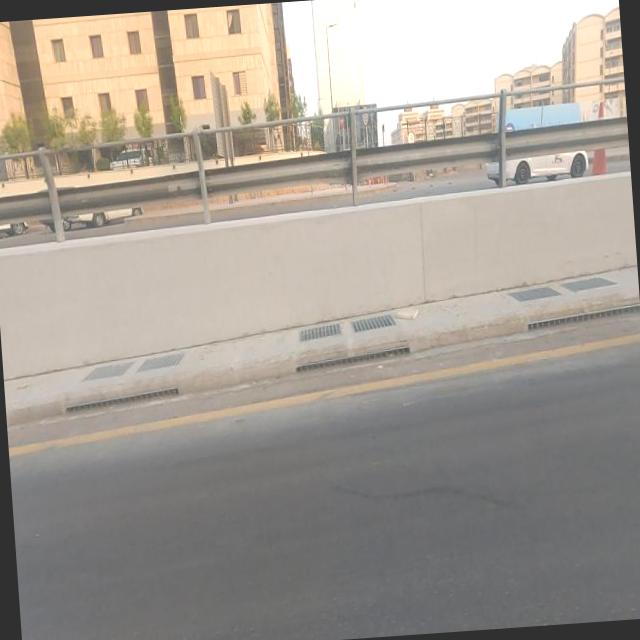debris: (374, 272, 448, 350)
